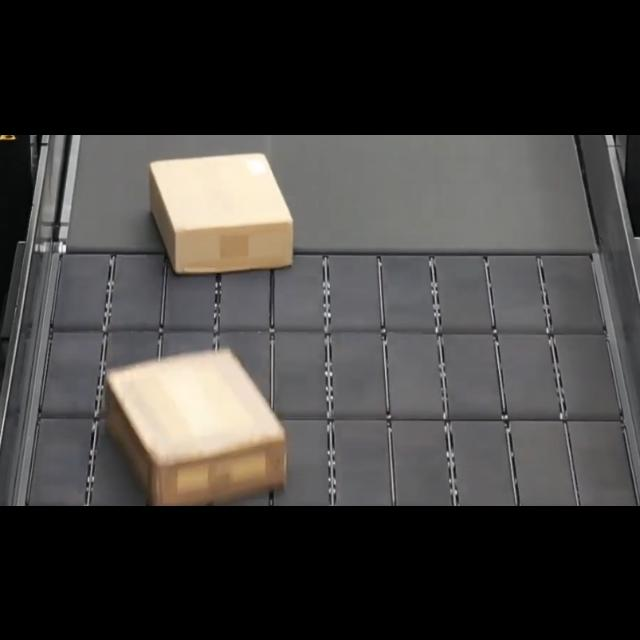box: (105, 350, 288, 506), (149, 152, 297, 272)
